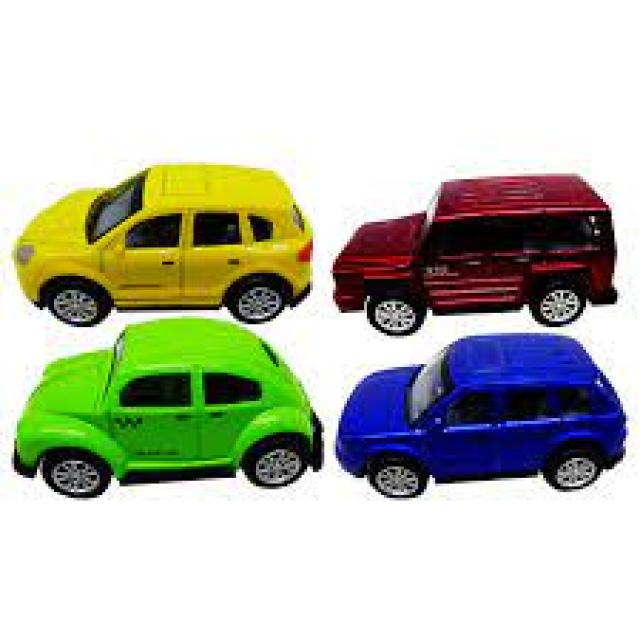Car: (12, 316, 324, 498), (11, 159, 313, 327), (333, 330, 626, 498), (330, 170, 617, 336)
